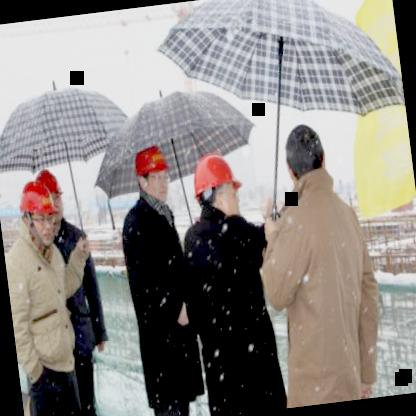head: (275, 118, 332, 198)
helmet: (188, 147, 248, 229), (16, 171, 66, 252), (128, 142, 175, 205), (32, 164, 69, 235)
